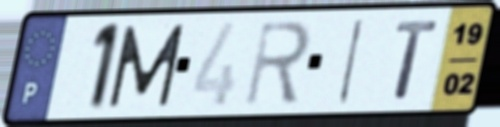1: (88, 19, 126, 114)
4: (188, 20, 240, 110)
I: (334, 15, 368, 107)
M: (105, 21, 188, 111)
R: (241, 18, 314, 109)
T: (392, 17, 442, 102)
